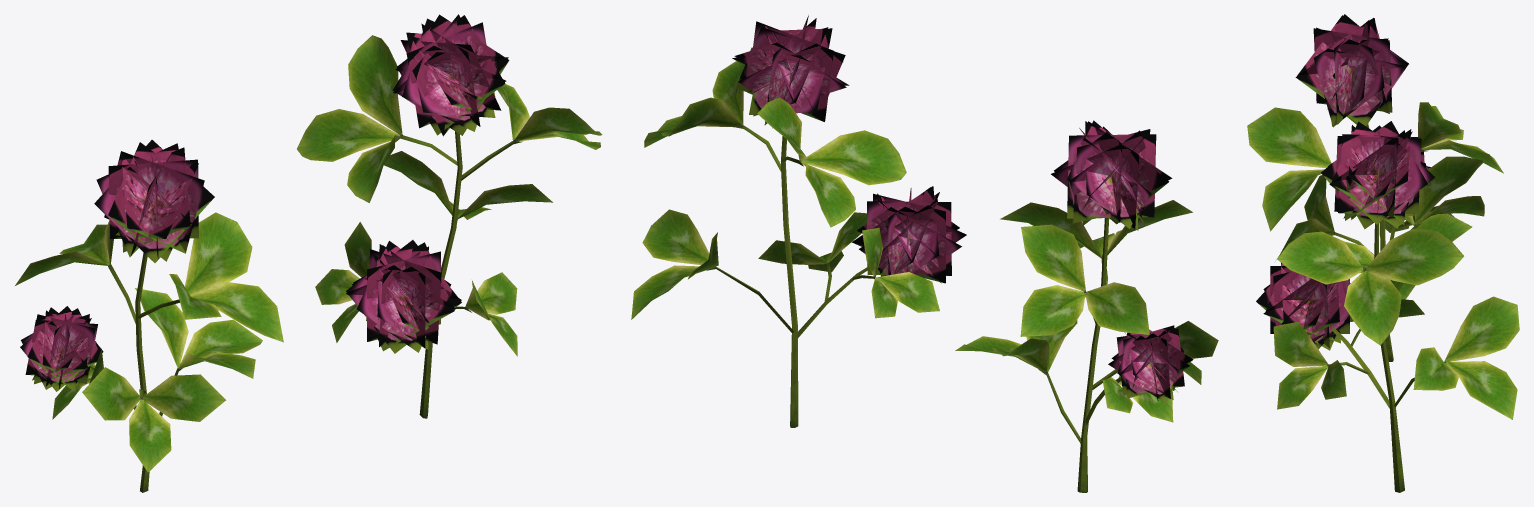
Rendered from Red_Clover.FBX.
3 renders of one model, left to right at view 1: azimuth 30°, elevation 25°; view 2: azimuth 150°, elevation 25°; view 3: azimuth 270°, elevation 25°, orthographic. The views are drawn at different scales.
Parts seen in each view (by area): view 1: red_Clover, red_Clover001; view 2: red_Clover, red_Clover001; view 3: red_Clover, red_Clover001.
Part boxes in pixels (x1,y1,x2,y2): red_Clover: (297, 14, 602, 418); red_Clover001: (15, 140, 283, 492); red_Clover: (631, 15, 966, 427); red_Clover001: (955, 120, 1218, 492); red_Clover: (1256, 121, 1519, 492); red_Clover001: (1247, 14, 1503, 361).
Bounding box in the file's own units: 62.27 × 42.14 × 28.15.
